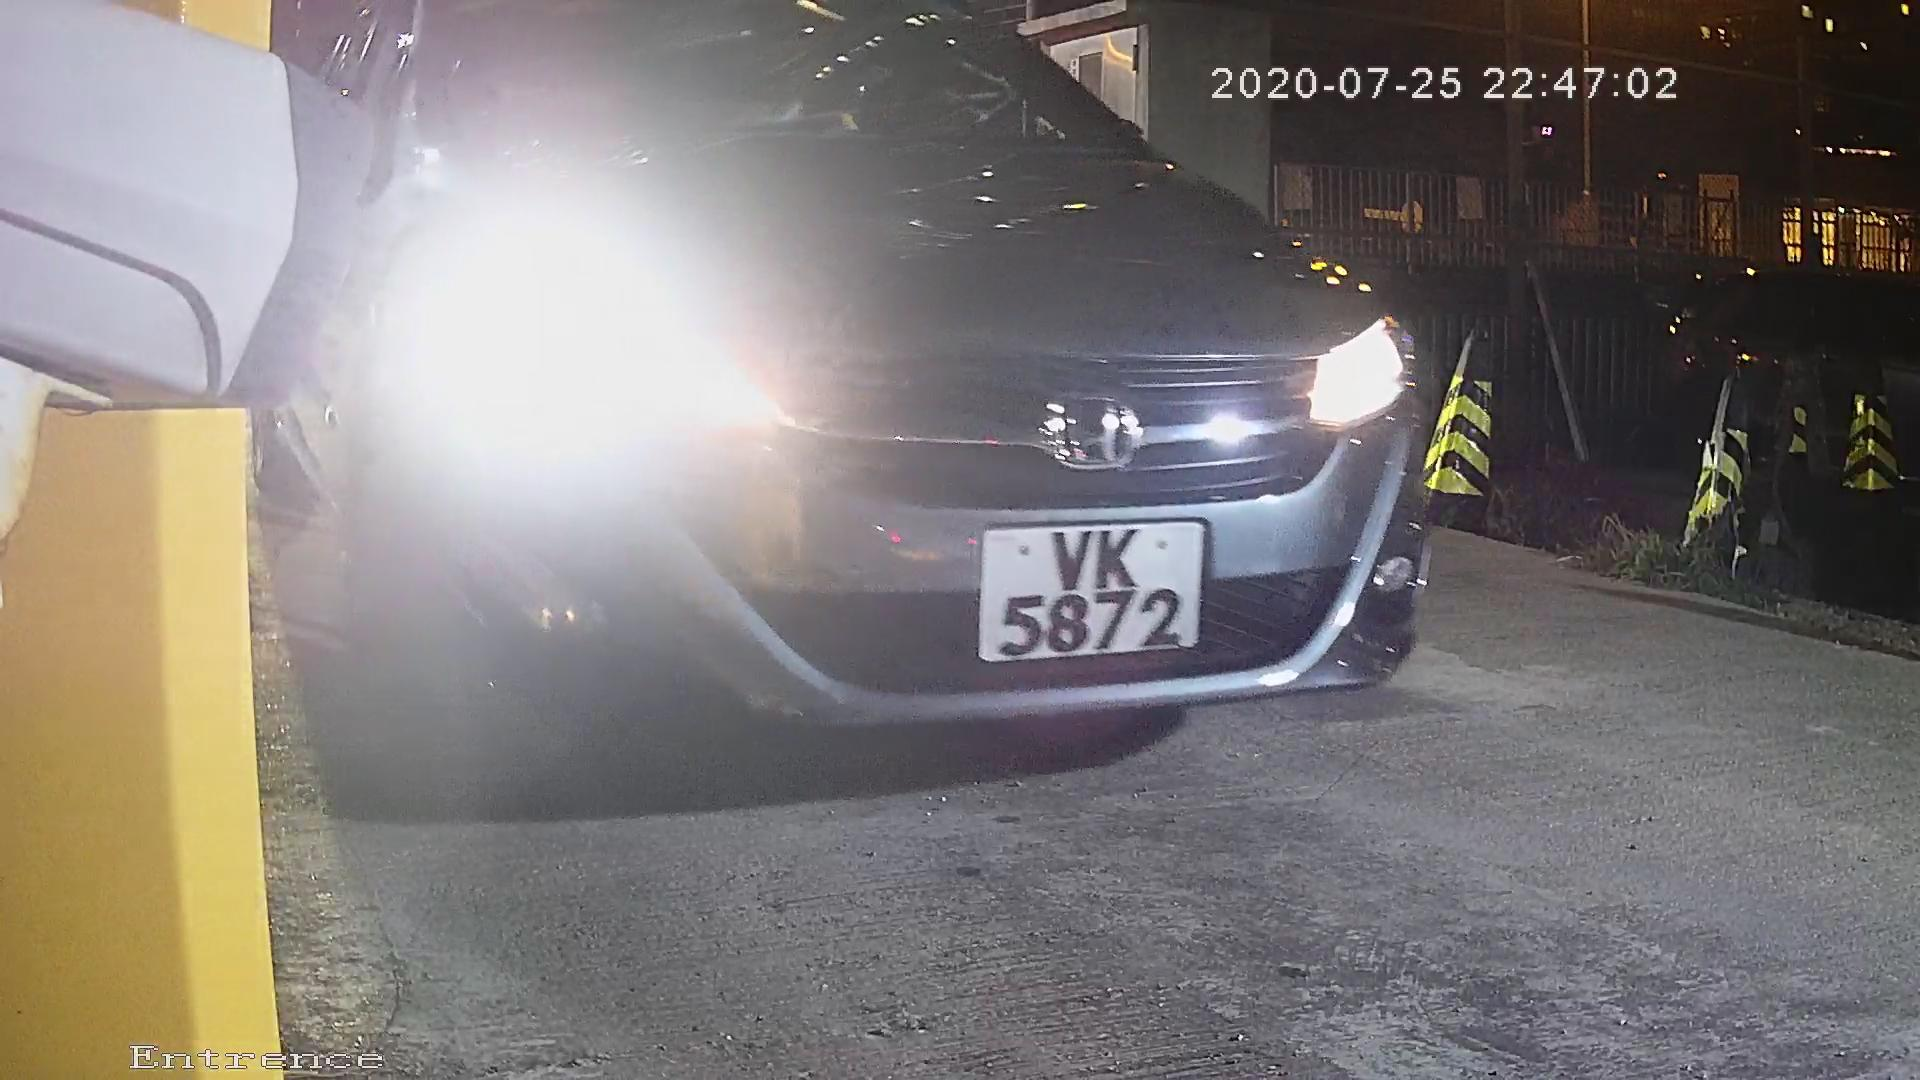privatecar: (291, 1, 1552, 815)
